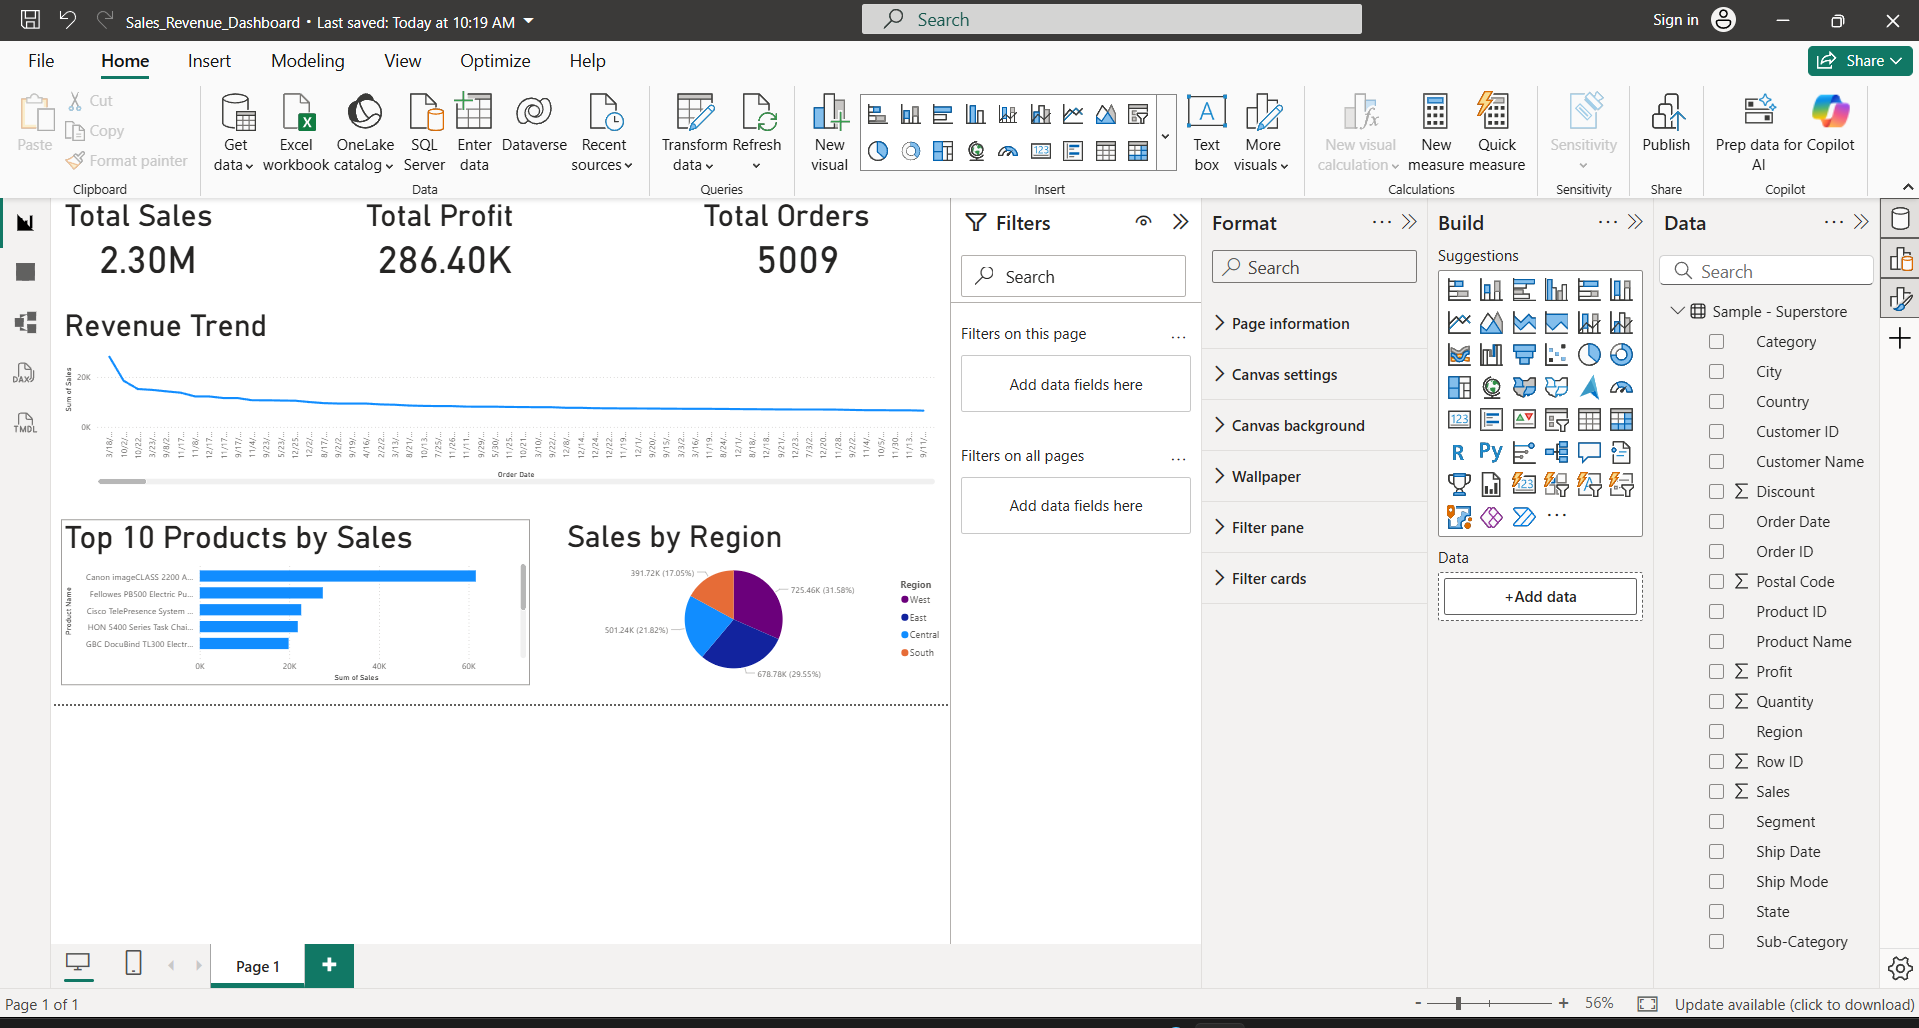

The dashboard page shown, as its layout file describes it:
{"tool":"powerbi","page":{"name":"Page 1","canvas":[1280,720],"ordinal":0},"visuals":[{"type":"card","title":"Total Sales","fields":{"Values":["Sum(Sample - Superstore.Sales)"]},"box":[14.2,0,247.4,112.1],"z":1},{"type":"card","title":"Total Profit","fields":{"Values":["Sum(Sample - Superstore.Profit)"]},"box":[443.2,0,234.9,112.1],"z":2},{"type":"card","title":"Total Orders","fields":{"Values":["Count(Sample - Superstore.Order ID)"]},"box":[923.7,0,277.6,112.1],"z":3},{"type":"lineChart","title":"Revenue Trend","fields":{"Category":["Sample - Superstore.Order Date"],"Y":["Sum(Sample - Superstore.Sales)"]},"box":[14.2,156.6,1249.4,256.3],"z":4},{"type":"clusteredBarChart","title":"Top 10 Products by Sales","fields":{"Category":["Sample - Superstore.Product Name"],"Y":["Sum(Sample - Superstore.Sales)"]},"box":[14.2,457.4,667.4,236.7],"z":6},{"type":"pieChart","title":"Sales by Region","fields":{"Category":["Sample - Superstore.Region"],"Y":["Sum(Sample - Superstore.Sales)"]},"box":[729.7,457.4,550,236.7],"z":7}]}

Visuals, with their boxes on the page's 1280x720 design canvas (x1, y1, x2, y2). These are canvas units, not pixel positions in the 1919x1028 screenshot, which may show the page scaled, cropped or inside an application window:
"Total Sales" card: select_region(14, 0, 262, 112)
"Total Profit" card: select_region(443, 0, 678, 112)
"Total Orders" card: select_region(924, 0, 1201, 112)
"Revenue Trend" lineChart: select_region(14, 157, 1264, 413)
"Top 10 Products by Sales" clusteredBarChart: select_region(14, 457, 682, 694)
"Sales by Region" pieChart: select_region(730, 457, 1280, 694)
